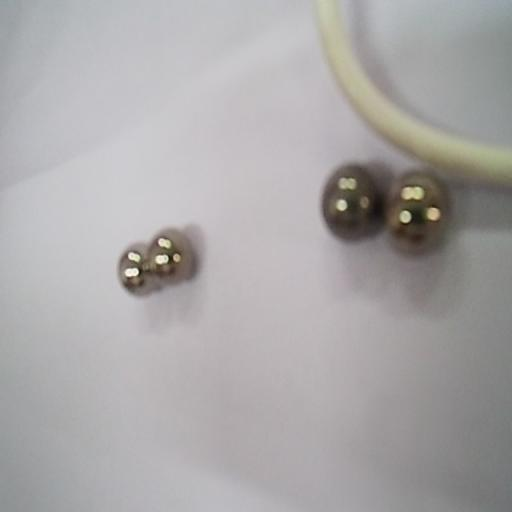steel-ball: (305, 151, 381, 251), (388, 174, 448, 266), (149, 225, 200, 298), (108, 237, 152, 293)
